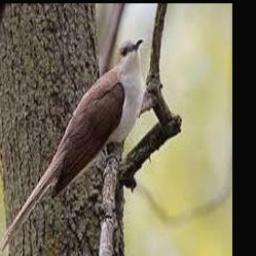Cuckoo: (0, 38, 144, 256)
